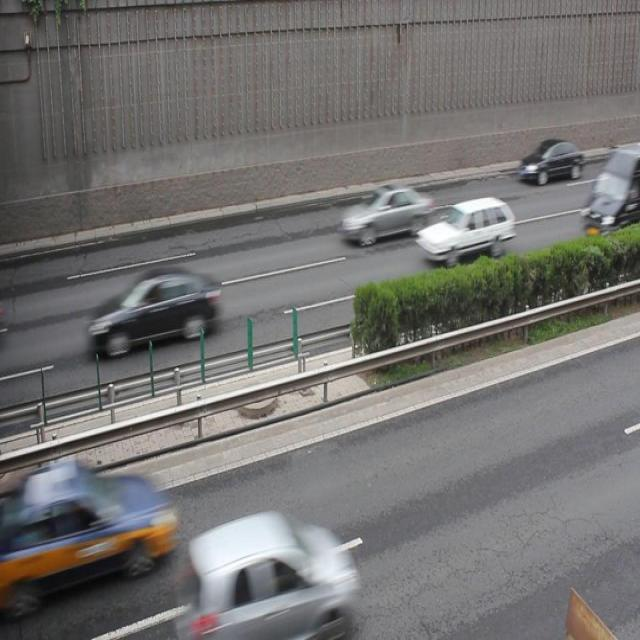car: (184, 509, 354, 640), (27, 458, 179, 597), (90, 266, 220, 354), (416, 196, 513, 261), (339, 183, 430, 245), (517, 138, 584, 182)
truck: (580, 147, 640, 240)
